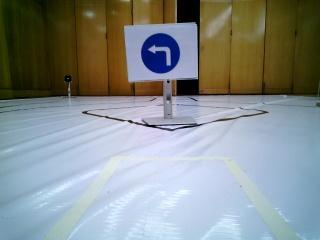left: (122, 27, 198, 78)
